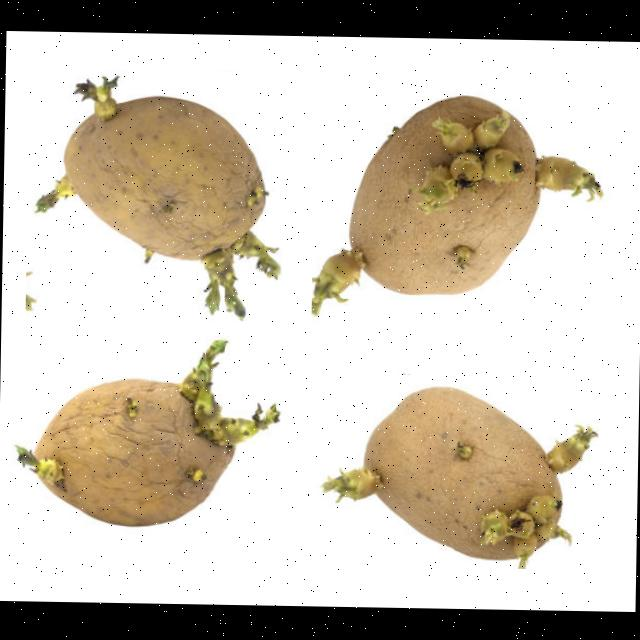Sprouted potato: (284, 67, 620, 330), (24, 67, 314, 330), (1, 330, 296, 538), (314, 372, 611, 570)
